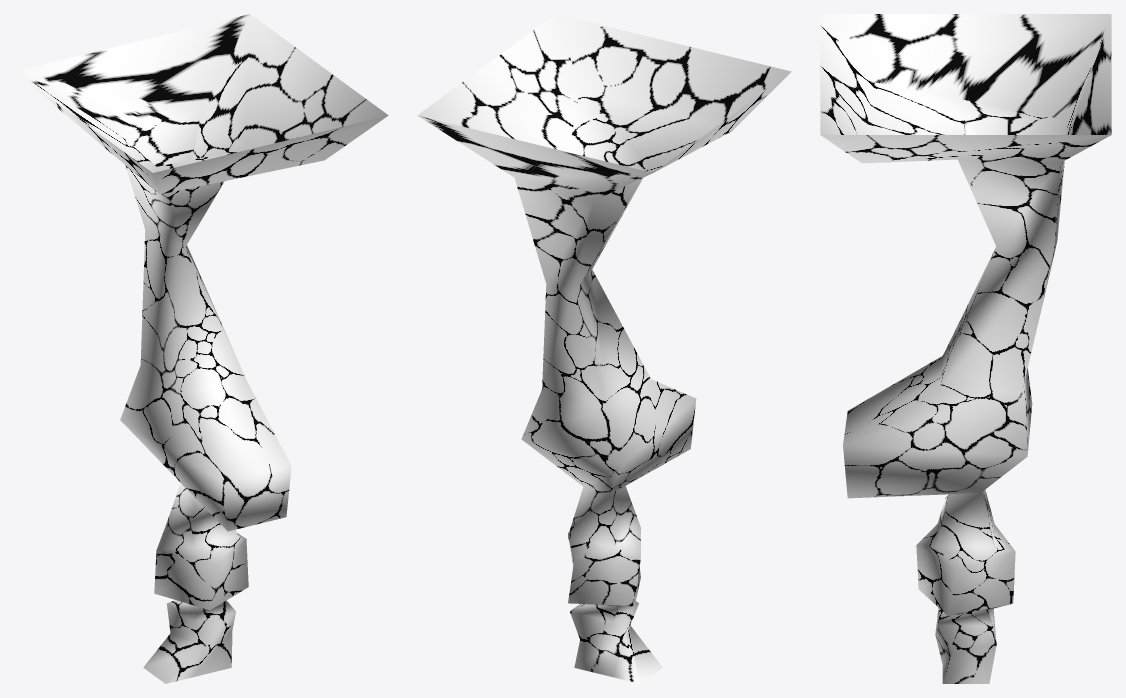
Rendered from Stone_03_04.fbx.
3 views of the same model, side by side, from view 1: azimuth 30°, elevation 25°; view 2: azimuth 150°, elevation 25°; view 3: azimuth 270°, elevation 25° (orthographic). The views are drawn at different scales.
Parts seen in each view (by area): view 1: Stone_03_04; view 2: Stone_03_04; view 3: Stone_03_04.
Part boxes in pixels (x1,y1,x2,y2): Stone_03_04: (14, 14, 388, 683); Stone_03_04: (417, 14, 791, 683); Stone_03_04: (820, 14, 1111, 683).
Bounding box in the file's own units: 22.11 × 51.1 × 22.5.
